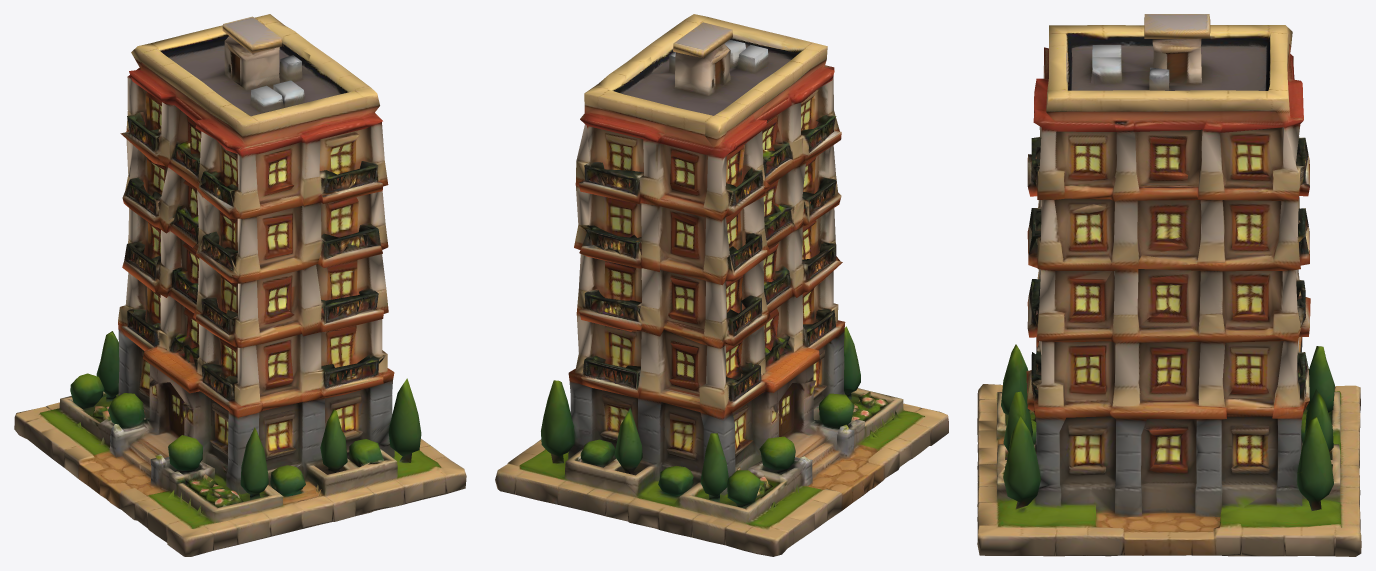
The model's file is house_small_stage5.glb.
3 renders of one model, left to right at view 1: azimuth 30°, elevation 25°; view 2: azimuth 150°, elevation 25°; view 3: azimuth 270°, elevation 25°, orthographic. The views are drawn at different scales.
Visible parts, largest first — view 1: tripo_node_6e039fe2-9c0e-4e85-8429-3c2906e1420d; view 2: tripo_node_6e039fe2-9c0e-4e85-8429-3c2906e1420d; view 3: tripo_node_6e039fe2-9c0e-4e85-8429-3c2906e1420d.
Boxes of the visible parts, left/top/right/bottom form: tripo_node_6e039fe2-9c0e-4e85-8429-3c2906e1420d: left=14, top=14, right=466, bottom=556; tripo_node_6e039fe2-9c0e-4e85-8429-3c2906e1420d: left=495, top=14, right=948, bottom=556; tripo_node_6e039fe2-9c0e-4e85-8429-3c2906e1420d: left=977, top=14, right=1361, bottom=556.
Size of the model in its own units: 0.697 by 1 by 0.7441.
Materials: 1 (1 with a texture image).
